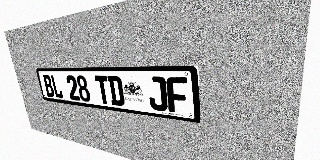2: (65, 75, 80, 101)
8: (75, 75, 91, 102)
B: (42, 75, 55, 98)
D: (107, 76, 125, 106)
F: (166, 77, 189, 114)
J: (147, 76, 168, 112)
L: (50, 75, 64, 99)
T: (94, 76, 111, 105)
